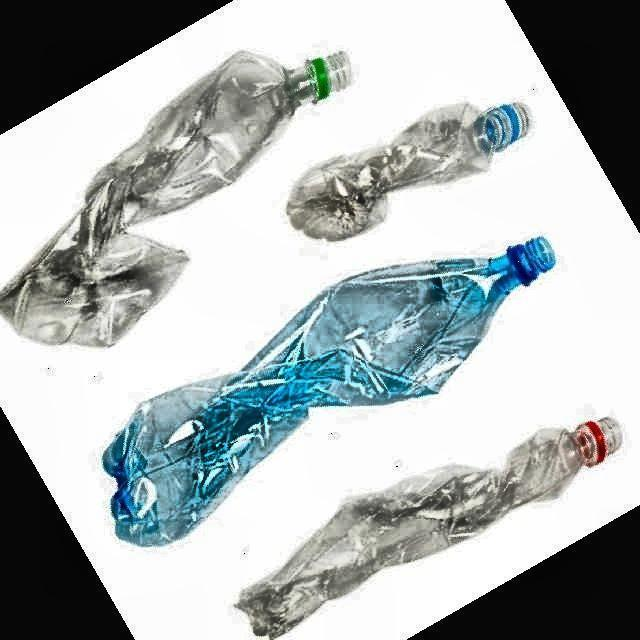plastic: (102, 238, 555, 546), (0, 52, 350, 346), (238, 419, 619, 638), (290, 104, 526, 241)
